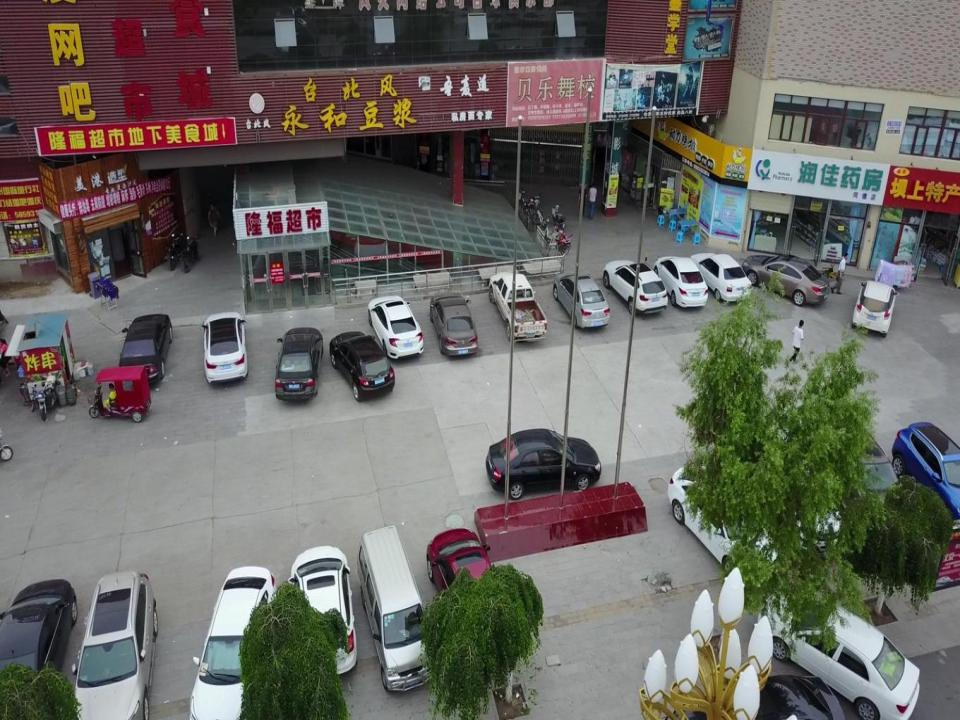car: (758, 586, 920, 718), (668, 462, 796, 588), (191, 565, 275, 718), (72, 571, 157, 717), (823, 417, 916, 547), (0, 578, 77, 718), (426, 526, 506, 649), (763, 439, 844, 554), (288, 544, 356, 677), (486, 428, 602, 499), (891, 420, 958, 532), (741, 253, 831, 307), (329, 330, 396, 401), (119, 313, 173, 383), (602, 259, 668, 315), (368, 294, 424, 360), (275, 326, 324, 399), (200, 311, 248, 384), (690, 251, 753, 302), (553, 272, 610, 328), (429, 291, 477, 357), (851, 278, 899, 338), (654, 255, 708, 308)
truck: (488, 271, 548, 341)
van: (356, 524, 439, 691)
